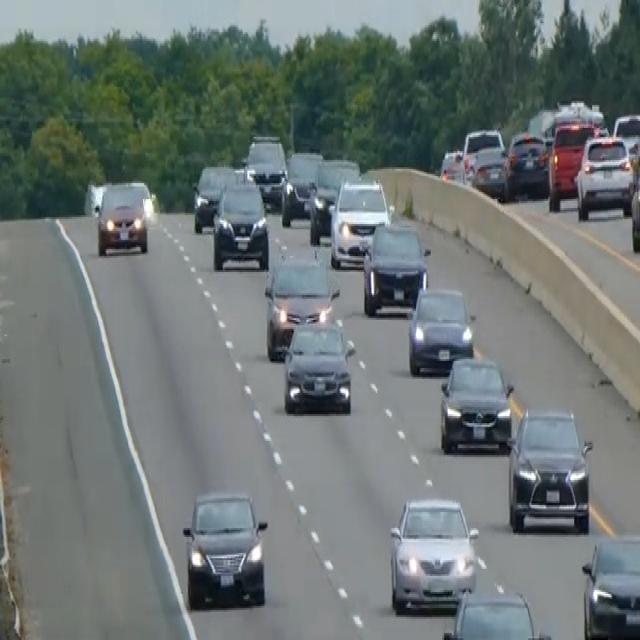car: (506, 406, 593, 534), (388, 492, 479, 614), (181, 487, 269, 610), (263, 251, 339, 359), (439, 352, 514, 453), (282, 315, 355, 414), (361, 218, 430, 314), (440, 582, 553, 638), (580, 532, 639, 638), (407, 285, 475, 375), (329, 176, 390, 268), (212, 178, 269, 270), (575, 132, 634, 220), (547, 117, 598, 210), (308, 156, 359, 244), (95, 180, 149, 256), (460, 124, 508, 194), (280, 149, 323, 226), (192, 162, 237, 233), (244, 137, 287, 206), (506, 128, 549, 196), (471, 151, 511, 201), (612, 110, 639, 162), (83, 176, 108, 215), (439, 146, 464, 183), (630, 164, 639, 254)
